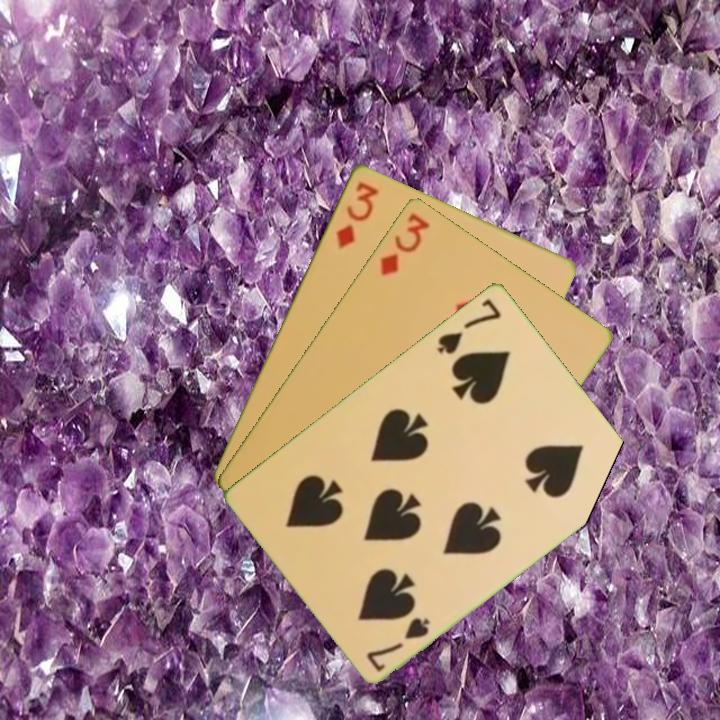3d: (376, 209, 432, 279), (332, 177, 381, 252)
7s: (433, 294, 504, 357), (363, 613, 434, 674)
